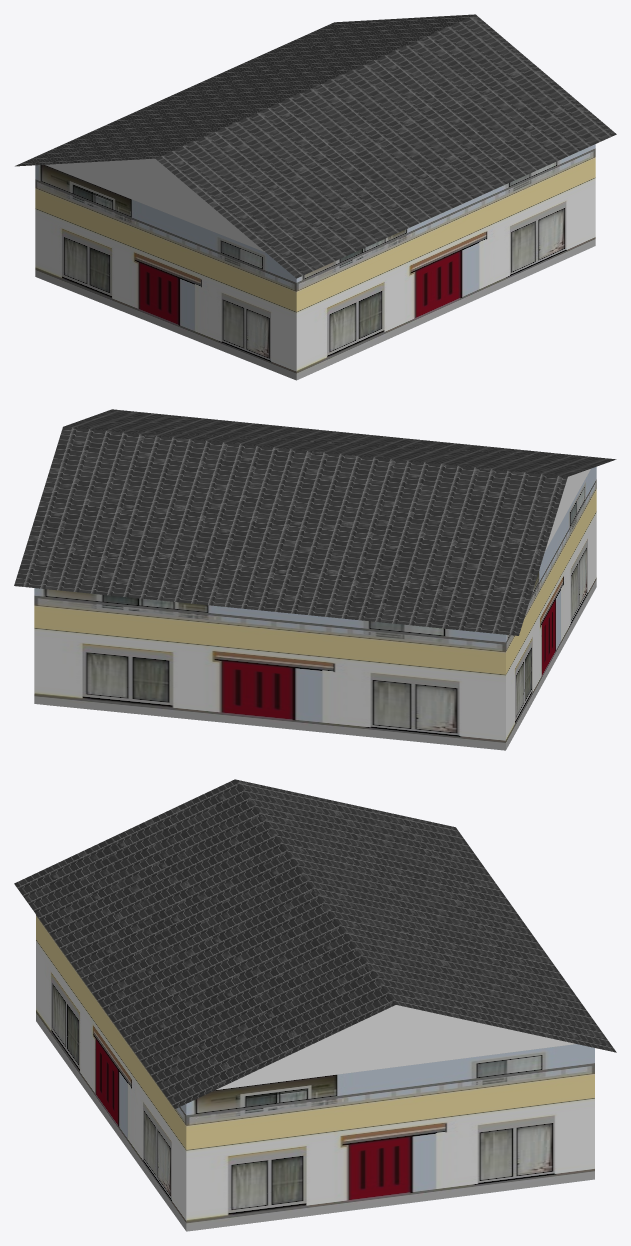
The picture shows the model from 3 angles, top to bottom: view 1: azimuth 30°, elevation 25°; view 2: azimuth 150°, elevation 25°; view 3: azimuth 270°, elevation 25°; orthographic projection. The views are drawn at different scales.
Visible parts, largest first — view 1: CityEngineMaterial_16_m, CityEngineMaterial_15_m, CityEngineMaterial_3_m; view 2: CityEngineMaterial_16_m, CityEngineMaterial_15_m, CityEngineMaterial_3_m; view 3: CityEngineMaterial_16_m, CityEngineMaterial_15_m, CityEngineMaterial_3_m.
Part boxes in pixels (box(x1,y1,x2,y2)): CityEngineMaterial_16_m: box(15, 14, 616, 278); CityEngineMaterial_15_m: box(35, 144, 595, 380); CityEngineMaterial_3_m: box(45, 158, 264, 251); CityEngineMaterial_16_m: box(14, 409, 616, 635); CityEngineMaterial_15_m: box(34, 466, 596, 750); CityEngineMaterial_3_m: box(545, 469, 590, 551); CityEngineMaterial_16_m: box(14, 779, 616, 1108); CityEngineMaterial_15_m: box(36, 915, 594, 1231); CityEngineMaterial_3_m: box(216, 1005, 575, 1089).
Bounding box in the file's own units: 36.07 × 12.43 × 32.61.
